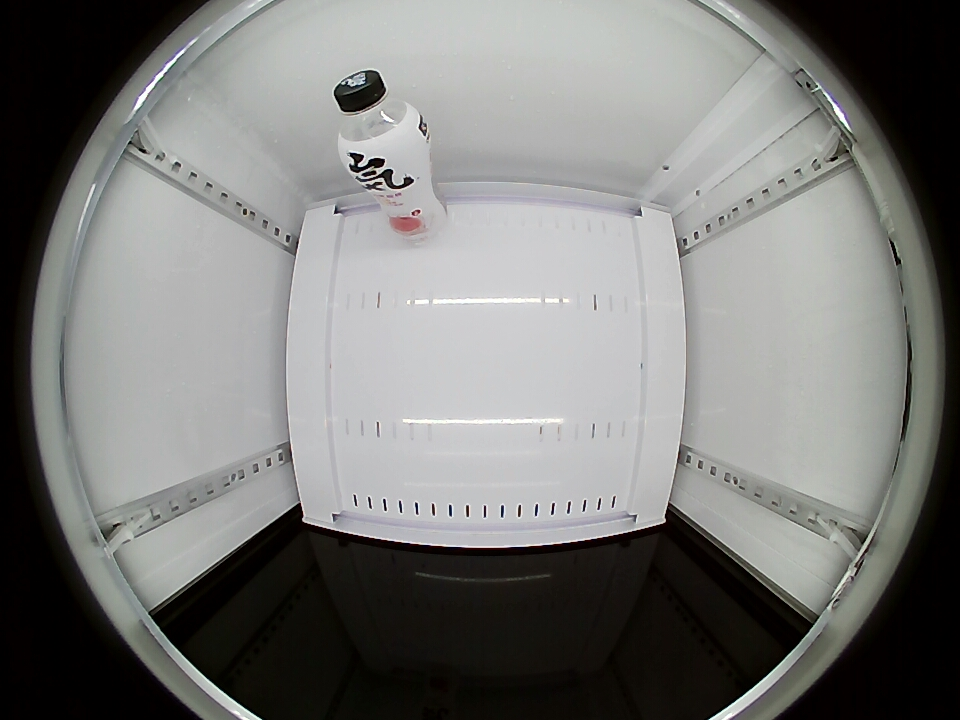yuanqishui: (333, 70, 430, 172)
